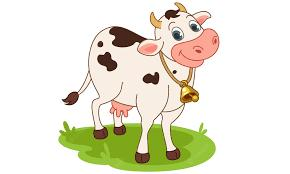cow: (61, 2, 220, 164)
